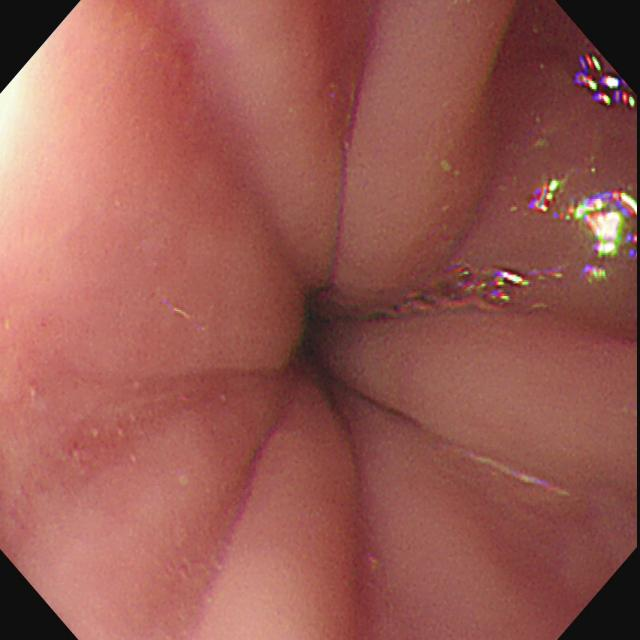I: (232, 212, 432, 448)
T: (417, 263, 516, 314)
U: (564, 189, 638, 261), (575, 49, 636, 113), (531, 176, 564, 216), (498, 268, 562, 288), (584, 265, 611, 287)
